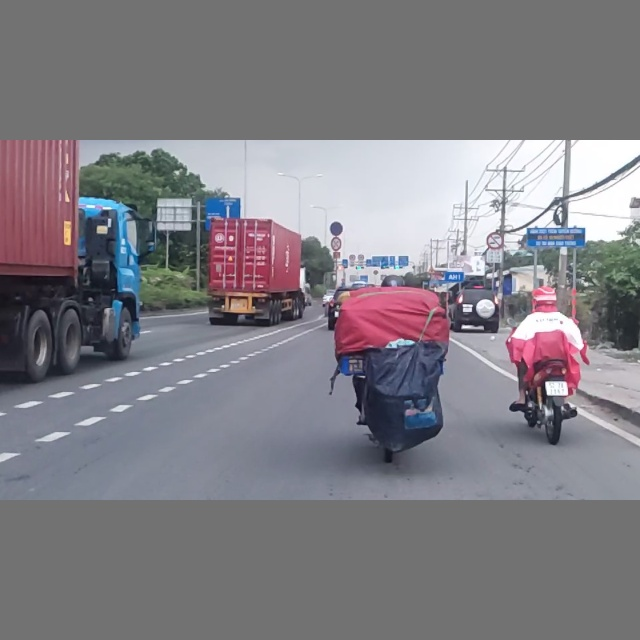P.107: (486, 232, 503, 249)
P.111: (331, 237, 342, 251)
P.130: (329, 221, 344, 235)
